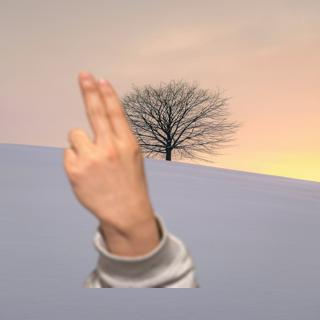DHAVE: (50, 64, 158, 230)
